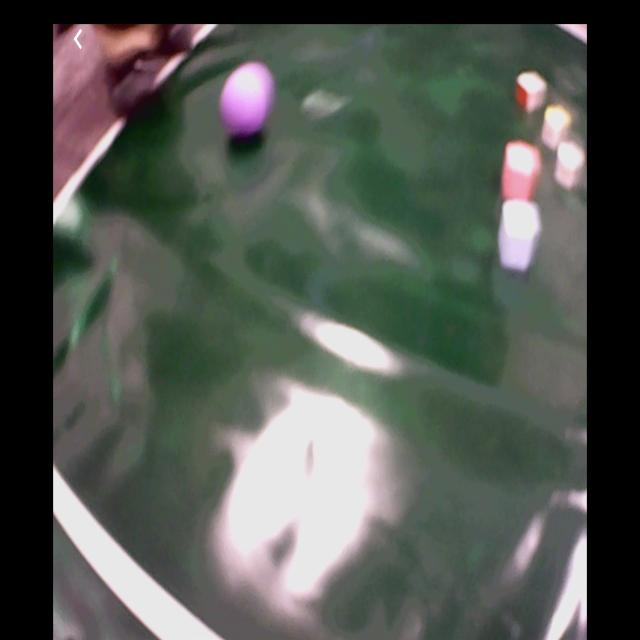ball: (222, 70, 271, 137)
